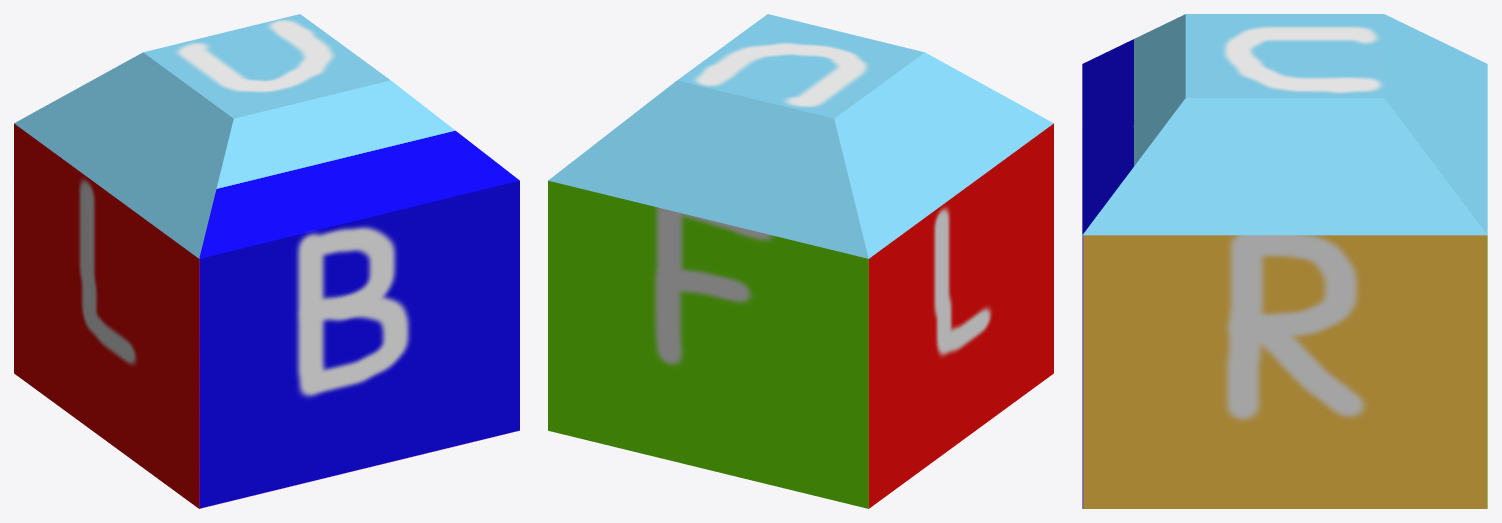
The model's file is 03 - form.gltf.
3 views of the same model, side by side, from view 1: azimuth 30°, elevation 25°; view 2: azimuth 150°, elevation 25°; view 3: azimuth 270°, elevation 25° (orthographic). The views are drawn at different scales.
Parts seen in each view (by area): view 1: Cube; view 2: Cube; view 3: Cube.
Boxes of the visible parts, x1,y1,x2,y2 form: Cube: (14, 14, 519, 508); Cube: (548, 14, 1053, 508); Cube: (1082, 14, 1487, 508).
Bounding box in the file's own units: 2.93 × 2.93 × 2.93.
1 material, 1 textured.
